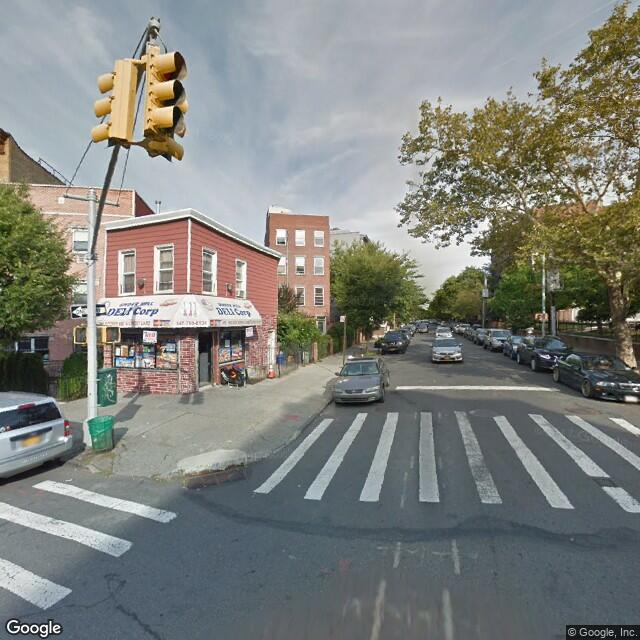litter: (64, 478, 75, 482), (139, 432, 149, 436), (297, 481, 301, 488), (226, 442, 232, 446)
